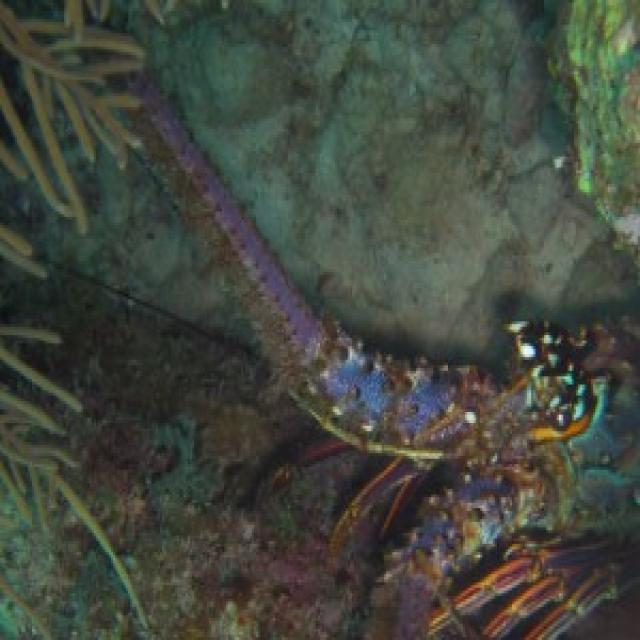lobsters: (219, 206, 640, 640)
